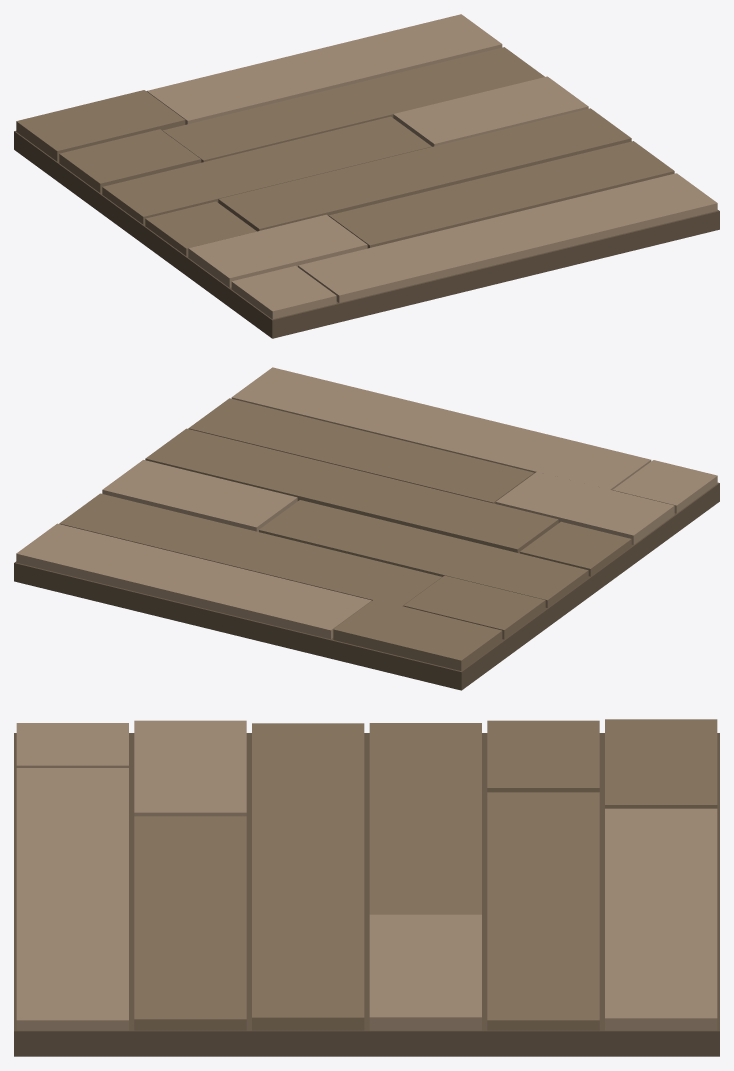
The model's file is floor_planks.glb.
3 views of the same model, one above another, from view 1: azimuth 30°, elevation 25°; view 2: azimuth 150°, elevation 25°; view 3: azimuth 270°, elevation 25° (orthographic). The views are drawn at different scales.
Parts seen in each view (by area): view 1: Floor_Planks; view 2: Floor_Planks; view 3: Floor_Planks.
Boxes of the visible parts, <box> form: Floor_Planks: <box>14,14,719,338</box>; Floor_Planks: <box>14,367,719,690</box>; Floor_Planks: <box>14,719,719,1056</box>.
Bounding box in the file's own units: 1.52 × 0.0943 × 1.52.
